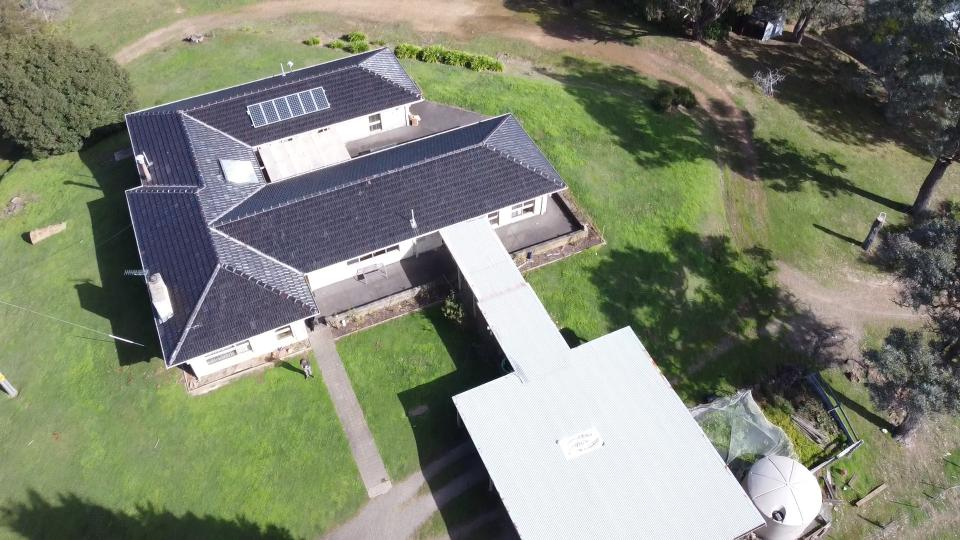zebra: (563, 430, 600, 457)
